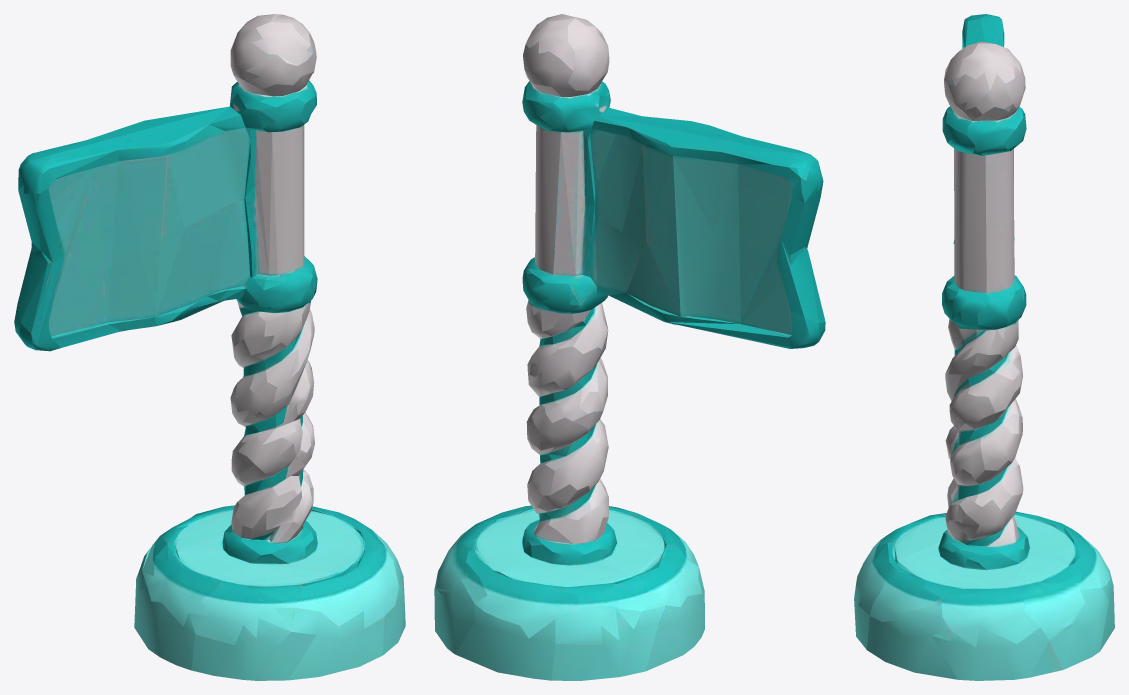
Rendered from checkpoint.glb.
3 renders of one model, left to right at view 1: azimuth 30°, elevation 25°; view 2: azimuth 150°, elevation 25°; view 3: azimuth 270°, elevation 25°, orthographic. The views are drawn at different scales.
Size of the model in its own units: 1.21 by 1.9 by 0.7726.
1 material, 1 textured.
